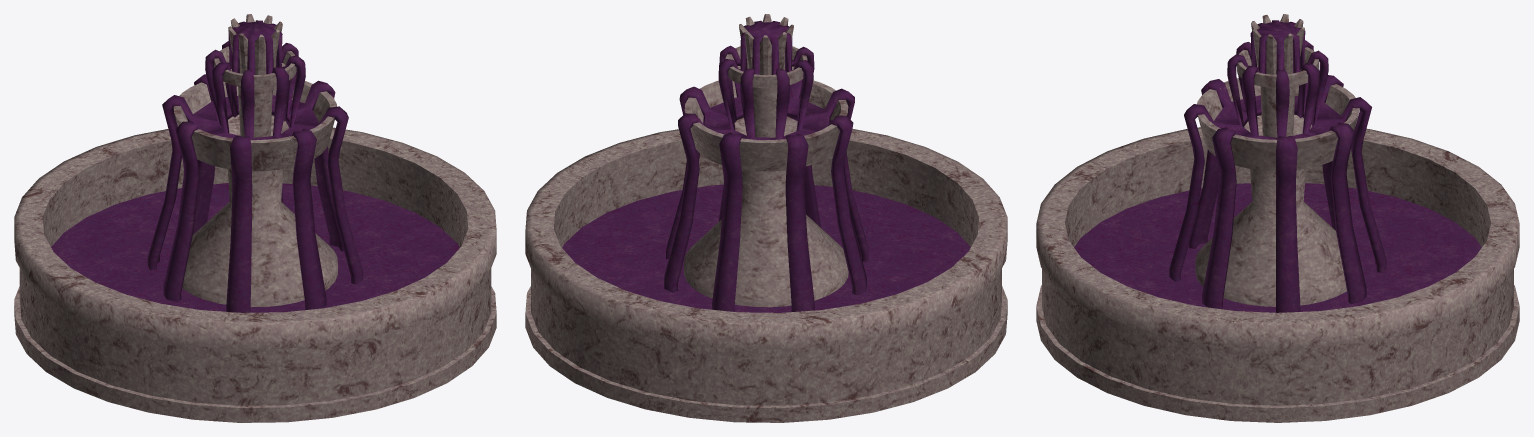
File: fountain.fbx
3 views of the same model, side by side, from view 1: azimuth 30°, elevation 25°; view 2: azimuth 150°, elevation 25°; view 3: azimuth 270°, elevation 25° (orthographic).
Visible parts, largest first — view 1: fountain; view 2: fountain; view 3: fountain.
Boxes of the visible parts, box(x1,y1,x2,y2) form: fountain: box(14, 14, 496, 422); fountain: box(525, 14, 1007, 422); fountain: box(1036, 14, 1519, 422).
Bounding box in the file's own units: 4.28 × 2.9 × 4.28.
